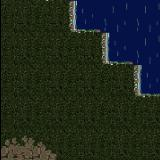Interaction: (57, 0, 83, 42), (91, 43, 118, 78), (126, 79, 160, 106), (118, 58, 150, 80), (83, 23, 118, 43)
Slow: (76, 0, 160, 30), (108, 30, 160, 60), (141, 61, 160, 92)
